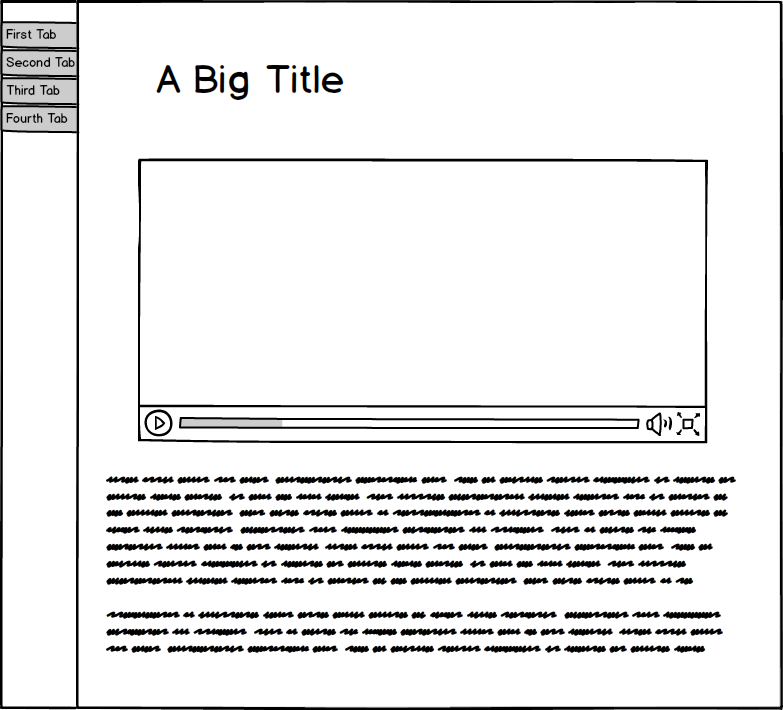h1: (151, 57, 358, 108)
p: (98, 471, 739, 657)
sidebar: (1, 16, 87, 138)
video: (130, 154, 712, 448)
